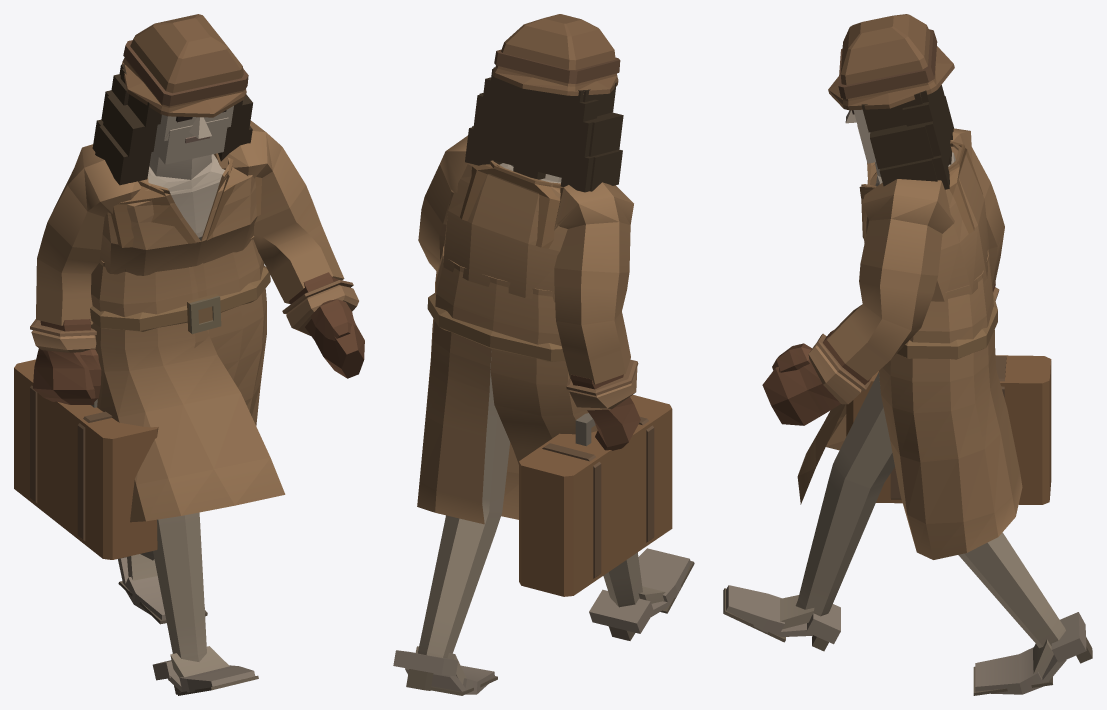
Rendered from passenger-ac425a__walk4.glb.
The picture shows the model from 3 angles, left to right: view 1: azimuth 30°, elevation 25°; view 2: azimuth 150°, elevation 25°; view 3: azimuth 270°, elevation 25°; orthographic projection.
Visible parts, largest first — view 1: passenger-ac425a__walk4; view 2: passenger-ac425a__walk4; view 3: passenger-ac425a__walk4.
Part boxes in pixels (x1,y1,x2,y2): passenger-ac425a__walk4: [14, 14, 364, 695]; passenger-ac425a__walk4: [393, 14, 694, 695]; passenger-ac425a__walk4: [723, 14, 1092, 695].
Bounding box in the file's own units: 0.7369 × 1.75 × 0.9084.
